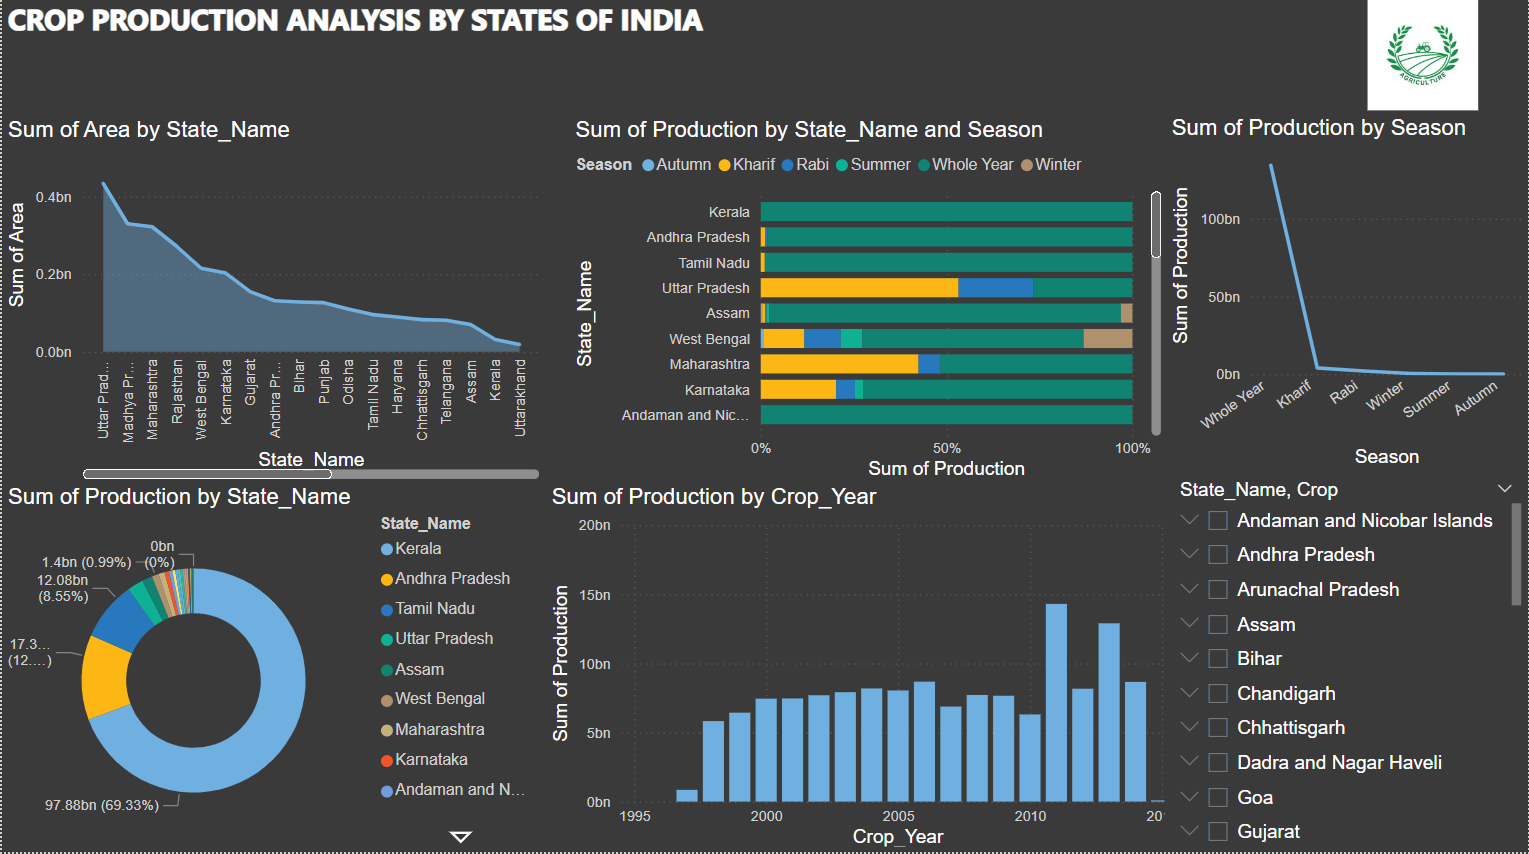

This screenshot's page, from the dashboard's own definition file:
{"tool":"powerbi","page":{"name":"ANALYSIS BY STATES","canvas":[1280,720],"ordinal":0},"visuals":[{"type":"donutChart","fields":{"Category":["Crop Production data.State_Name"],"Y":["Sum(Crop Production data.Production)"]},"box":[0,411.4,455.7,309.2],"z":0},{"type":"columnChart","fields":{"Category":["Crop Production data.Crop_Year"],"Y":["Sum(Crop Production data.Production)"]},"box":[455.7,411.4,535.8,309.2],"z":1000},{"type":"hundredPercentStackedBarChart","fields":{"Category":["Crop Production data.State_Name"],"Y":["Sum(Crop Production data.Production)"],"Series":["Crop Production data.Season"]},"box":[475.4,102.2,501.3,309.2],"z":2000},{"type":"stackedAreaChart","fields":{"Category":["Crop Production data.State_Name"],"Y":["Sum(Crop Production data.Area)"]},"box":[0,102.2,455.7,309.2],"z":3000},{"type":"slicer","fields":{"Values":["Crop Production data.State_Name","Crop Production data.Crop"]},"box":[974.9,401.4,304.6,318.6],"z":4000},{"type":"lineChart","fields":{"Category":["Crop Production data.Season"],"Y":["Sum(Crop Production data.Production)"]},"box":[976,102,304,300],"z":5000},{"type":"textbox","box":[0,0,663.9,62.8],"z":6000},{"type":"image","box":[1102.4,0,177.4,102.2],"z":7000}]}

Visuals, with their boxes in screenshot pixels (x1, y1, x2, y2), scaled from the page's 1280x720 canvas onto the 1529x854 screenshot:
donutChart - Crop Production data.State_Name x Sum(Crop Production data.Production): x1=0, y1=488, x2=544, y2=853
columnChart - Crop Production data.Crop_Year x Sum(Crop Production data.Production): x1=544, y1=488, x2=1184, y2=853
hundredPercentStackedBarChart - Crop Production data.State_Name x Sum(Crop Production data.Production): x1=568, y1=121, x2=1167, y2=488
stackedAreaChart - Crop Production data.State_Name x Sum(Crop Production data.Area): x1=0, y1=121, x2=544, y2=488
slicer - Crop Production data.State_Name x Crop Production data.Crop: x1=1165, y1=476, x2=1528, y2=853
lineChart - Crop Production data.Season x Sum(Crop Production data.Production): x1=1166, y1=121, x2=1528, y2=477
textbox: x1=0, y1=0, x2=793, y2=74
image: x1=1317, y1=0, x2=1528, y2=121
